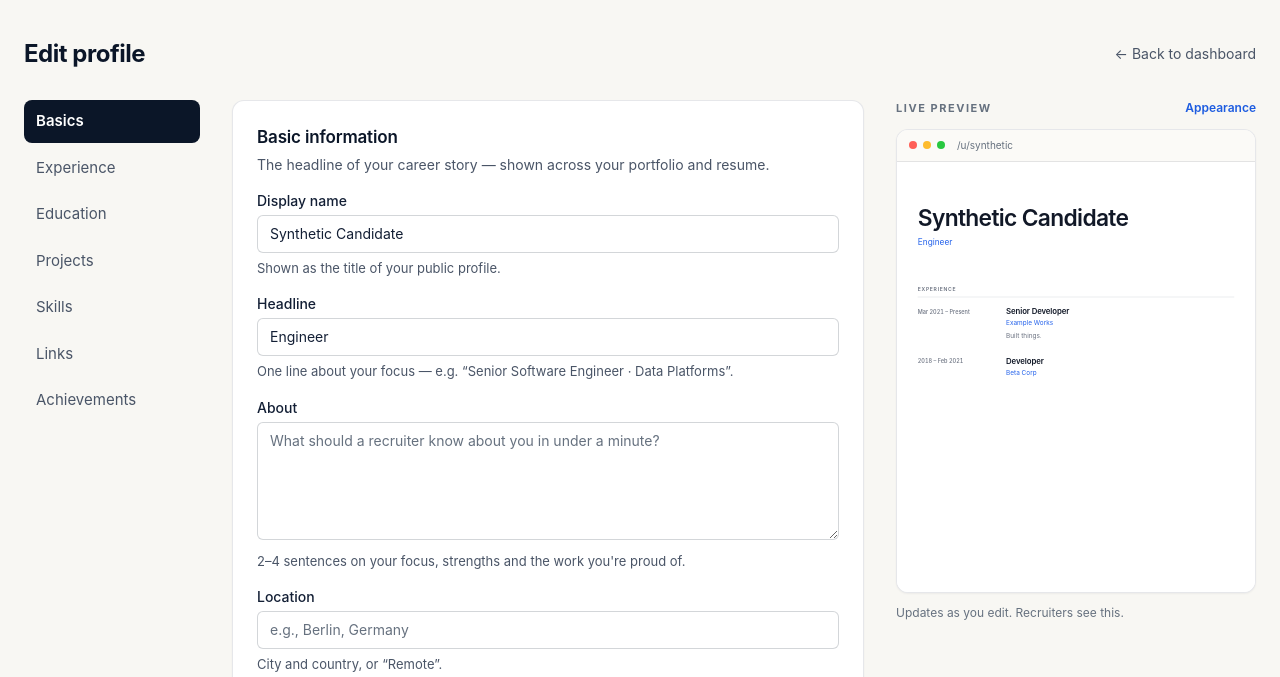
Test: ProfileEditor existing records › offers Edit as the primary action with subtle delete and move controls
Note: open Experience section (profile fetch is async)
Click the button "Experience".
click(112, 168)  # box x1=24 y1=146 x2=200 y2=189
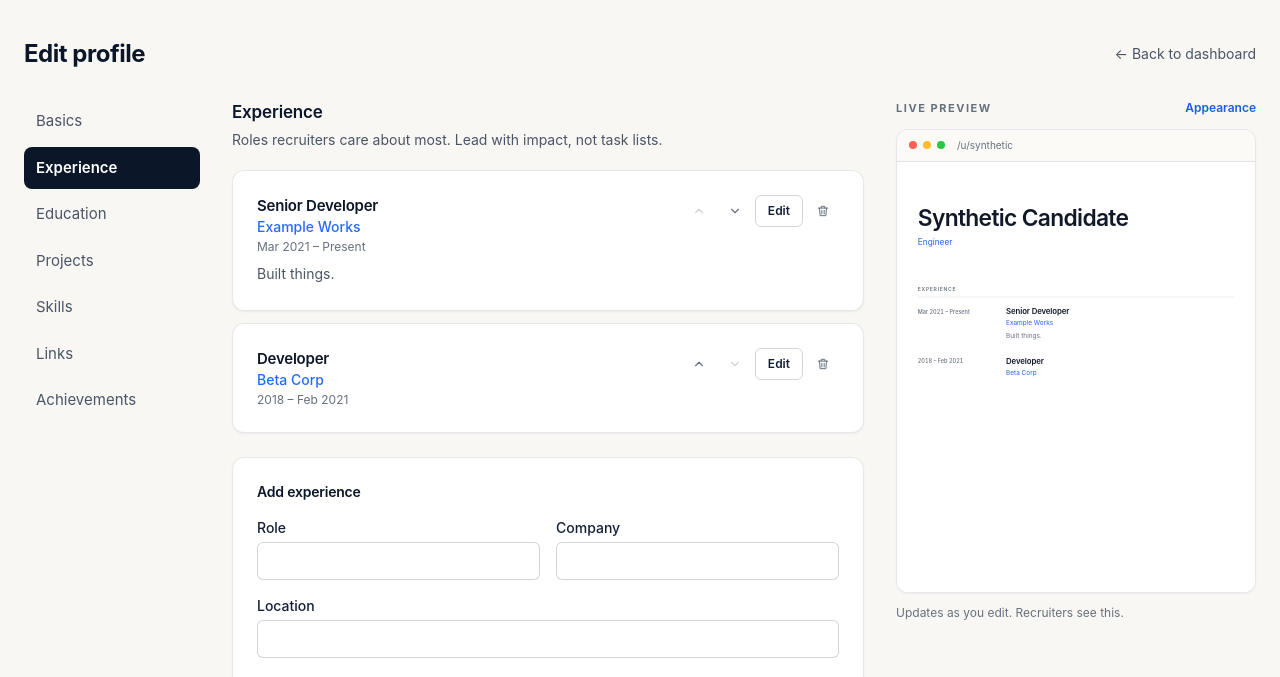
Check: the number of buttons "Edit" is 2, box x1=755 y1=194 x2=803 y2=226; x1=755 y1=348 x2=803 y2=380
Check: the number of buttons named "Delete Senior Developer" is 1, box x1=807 y1=194 x2=839 y2=226
Check: the 1st button named "Move up" is shown, box x1=683 y1=194 x2=715 y2=226
